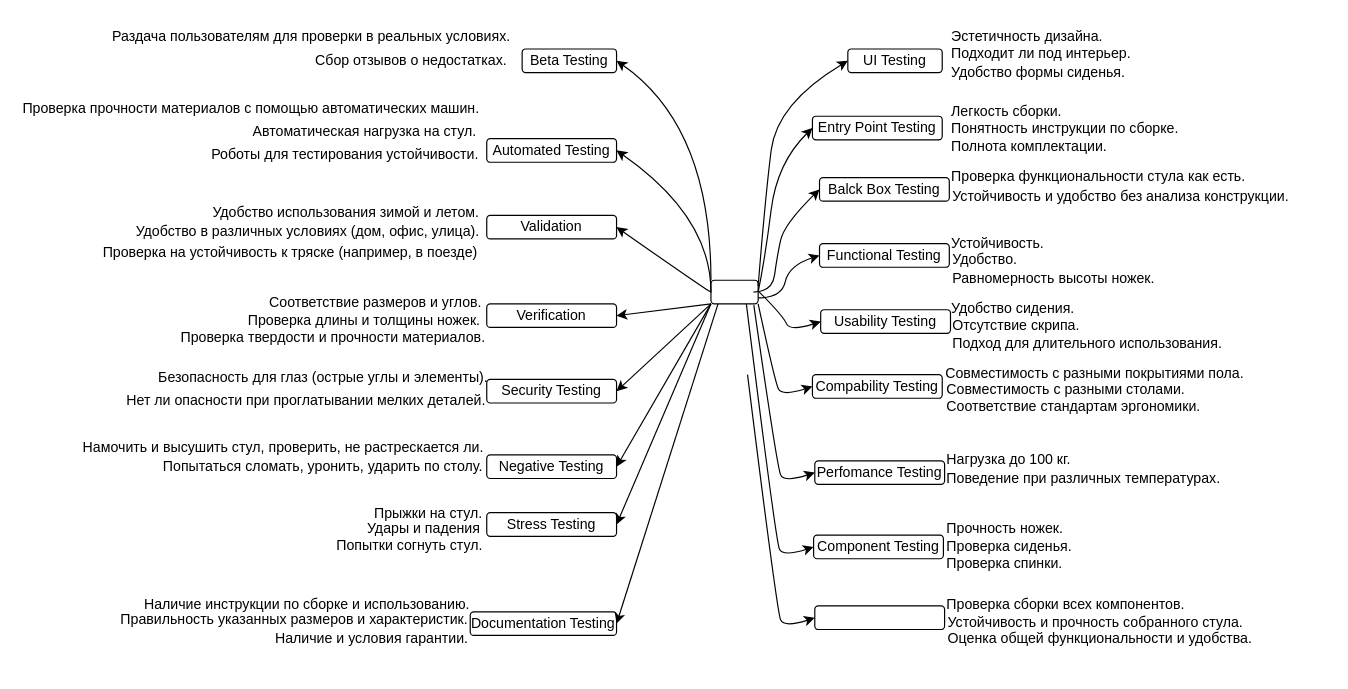
The diagram is 1348 pixels wide and 689 high, and some of its shapes have lost their labels. Here are the shapes that lost their labels. From the top down, the centre of each, then its label:
the point at 734,291: Стул
the point at 879,617: Integration Testing
